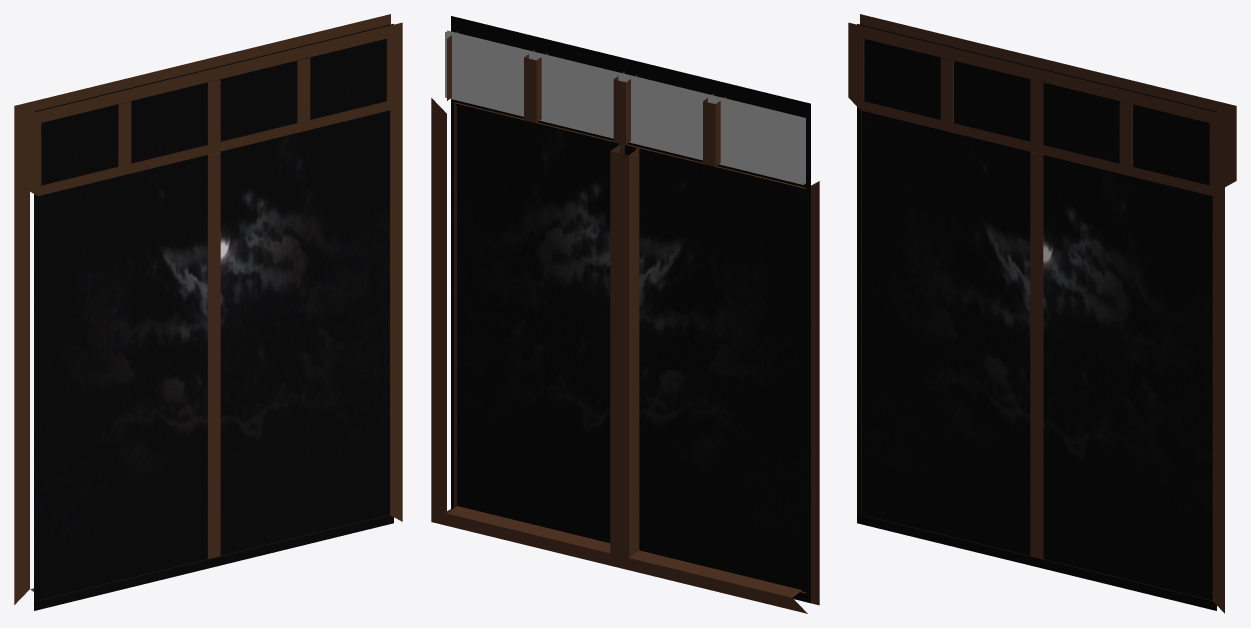
File: Window_Casement_Frame.obj
The picture shows the model from 3 angles, left to right: view 1: azimuth 30°, elevation 25°; view 2: azimuth 150°, elevation 25°; view 3: azimuth 330°, elevation 25°; orthographic projection.
Size of the model in its own units: 1.5 by 1.9 by 0.0809.
